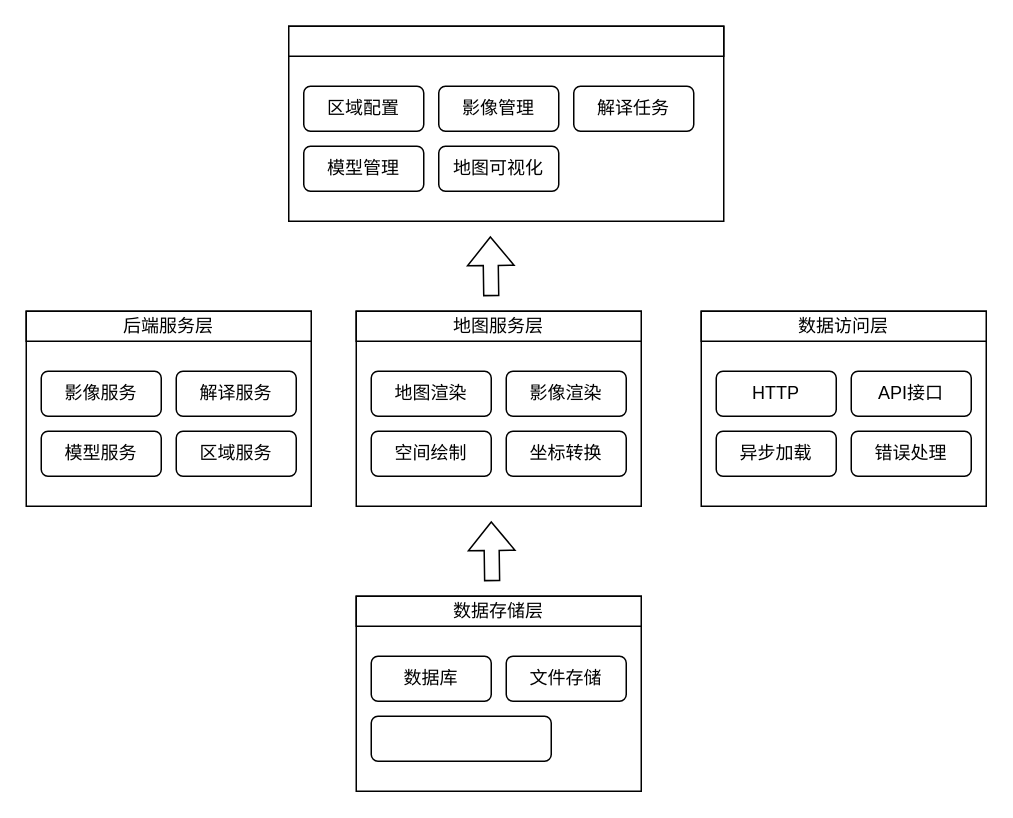
Some shapes in this 1013 by 818 pixel diagram are drawn without their labels. Each missing label, with the box of its shape:
docker 容器（模型）: (370, 715, 551, 761)
表现层（用户页面）: (287, 25, 724, 56)
